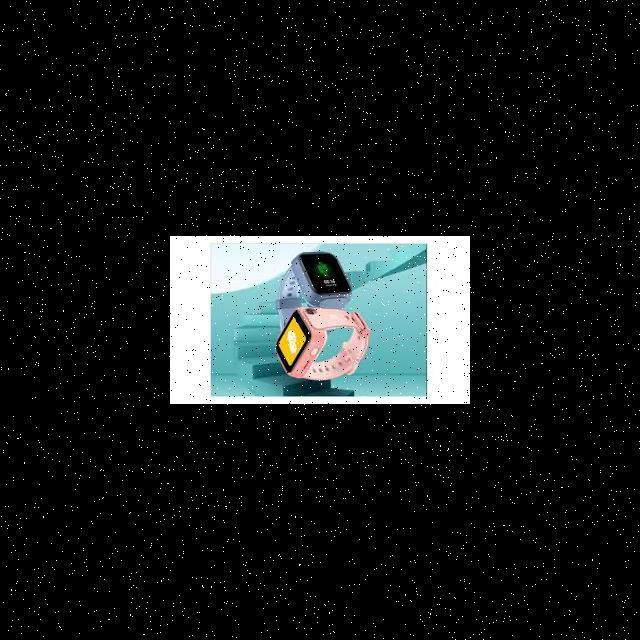watch: (278, 300, 387, 400), (270, 245, 362, 308)
